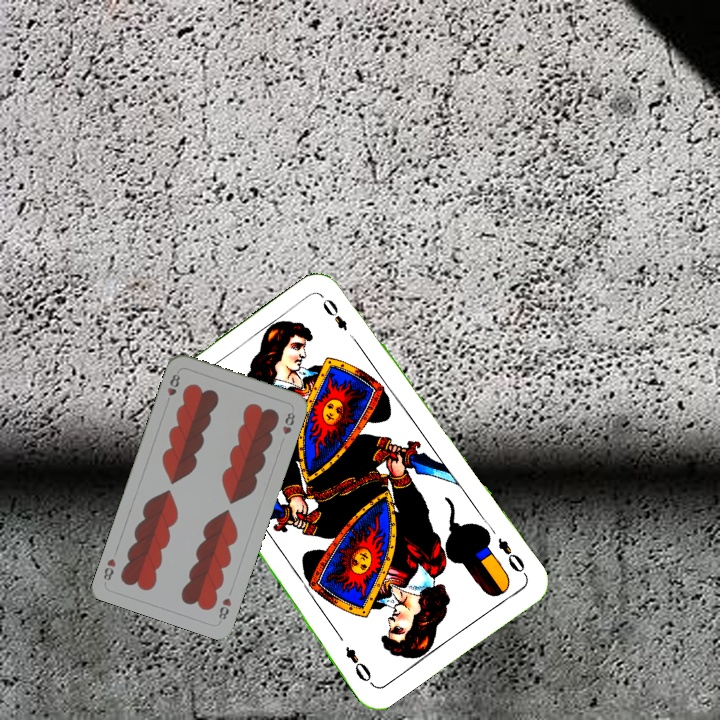EO: (493, 533, 530, 579)
H8: (162, 367, 183, 407), (214, 594, 234, 624)
